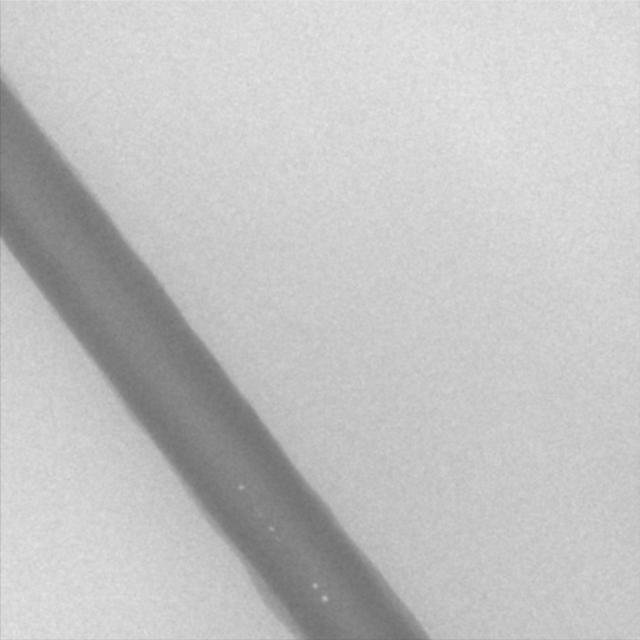air hole: (319, 594, 328, 604), (267, 524, 276, 533), (237, 482, 245, 492), (310, 579, 318, 588)
